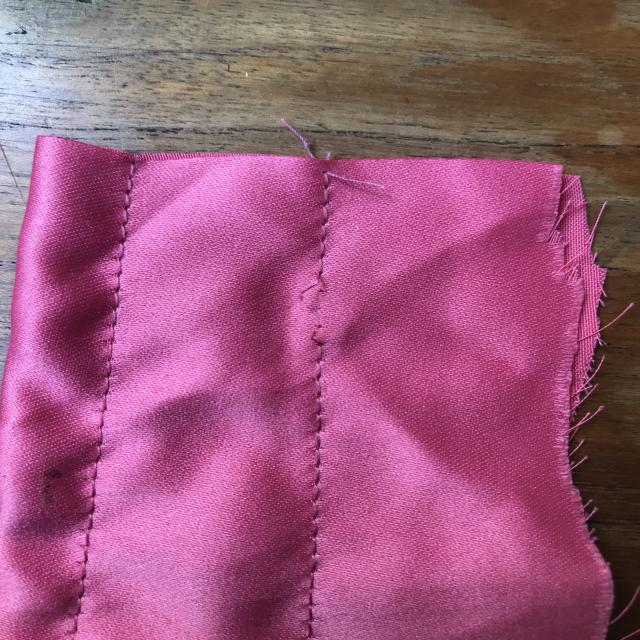broken: (283, 265, 348, 362)
